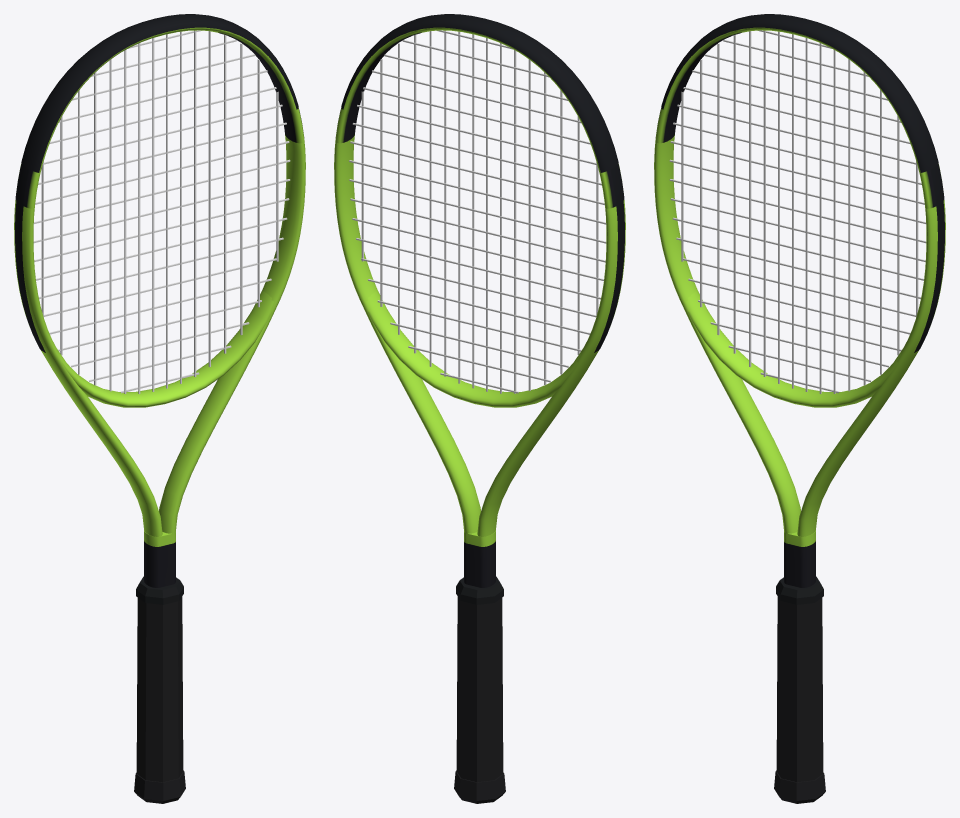
The model's file is head-extreme-mp-xl.glb.
3 views of the same model, side by side, from view 1: azimuth 30°, elevation 25°; view 2: azimuth 150°, elevation 25°; view 3: azimuth 330°, elevation 25° (orthographic).
Visible parts, largest first — view 1: frame, strings_mains, strings_crosses, grip, bumper, grommets, butt_cap, collar; view 2: frame, strings_mains, strings_crosses, grip, bumper, grommets, butt_cap, collar; view 3: frame, strings_mains, strings_crosses, grip, bumper, grommets, butt_cap, collar.
Part boxes in pixels (x1=…): frame: x1=14, y1=27, x2=305, y2=587; strings_mains: x1=41, y1=30, x2=278, y2=393; strings_crosses: x1=33, y1=30, x2=290, y2=393; grip: x1=136, y1=597, x2=183, y2=782; bumper: x1=21, y1=14, x2=298, y2=172; grommets: x1=15, y1=164, x2=45, y2=352; butt_cap: x1=134, y1=770, x2=185, y2=803; collar: x1=136, y1=576, x2=183, y2=604; frame: x1=334, y1=27, x2=625, y2=587; strings_mains: x1=361, y1=30, x2=598, y2=393; strings_crosses: x1=349, y1=30, x2=606, y2=393; grip: x1=456, y1=597, x2=503, y2=782; bumper: x1=341, y1=14, x2=618, y2=172; grommets: x1=594, y1=164, x2=624, y2=352; butt_cap: x1=454, y1=770, x2=505, y2=803; collar: x1=456, y1=576, x2=503, y2=604; frame: x1=654, y1=27, x2=945, y2=587; strings_mains: x1=681, y1=30, x2=918, y2=393; strings_crosses: x1=669, y1=30, x2=926, y2=393; grip: x1=776, y1=597, x2=823, y2=782; bumper: x1=661, y1=14, x2=938, y2=172; grommets: x1=914, y1=164, x2=944, y2=352; butt_cap: x1=774, y1=770, x2=825, y2=803; collar: x1=776, y1=576, x2=823, y2=604.
Size of the model in its own units: 0.2687 by 0.6988 by 0.0396.
